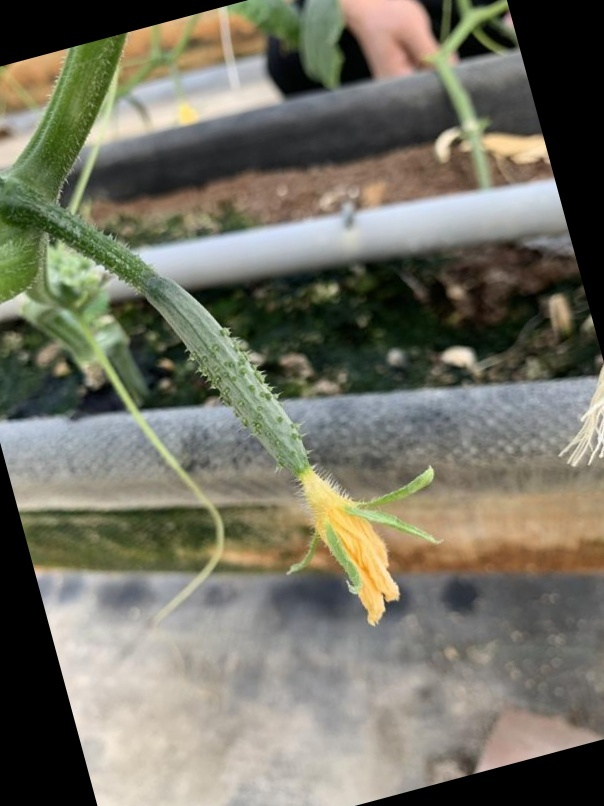bear: (139, 262, 444, 634)
